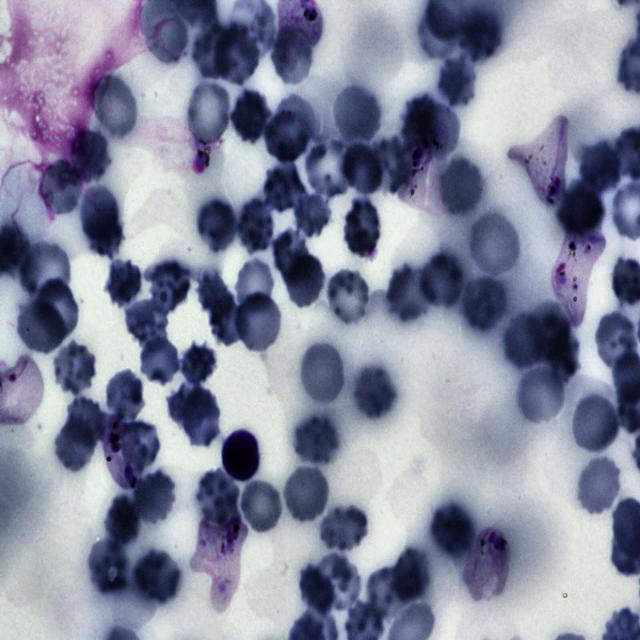leukocyte: (220, 428, 262, 483)
red blood cell: (198, 272, 246, 346), (466, 212, 520, 276), (184, 78, 233, 148), (19, 238, 72, 302), (298, 340, 347, 407), (570, 392, 620, 456), (213, 22, 261, 88), (332, 83, 382, 146), (574, 455, 624, 517), (234, 292, 284, 354), (323, 267, 372, 330), (513, 364, 564, 424), (282, 464, 331, 526), (437, 154, 484, 218), (134, 546, 182, 608), (16, 295, 66, 353), (270, 25, 316, 88), (281, 248, 326, 312), (304, 140, 354, 197), (96, 78, 139, 144), (350, 363, 398, 422), (594, 311, 640, 372), (87, 533, 132, 595), (38, 159, 85, 218), (340, 138, 386, 198), (527, 300, 570, 364), (556, 178, 604, 235), (386, 264, 434, 320), (132, 468, 178, 526), (54, 415, 97, 477), (342, 197, 384, 260), (292, 412, 340, 467), (238, 478, 284, 535), (318, 555, 363, 613), (178, 384, 220, 446), (390, 544, 432, 605), (146, 259, 192, 314), (37, 277, 79, 337), (194, 197, 238, 254), (51, 342, 98, 395), (462, 276, 508, 330), (320, 503, 368, 554), (420, 255, 468, 306), (196, 469, 240, 524), (456, 9, 500, 64), (230, 88, 272, 145), (504, 313, 546, 370), (103, 371, 147, 425), (236, 198, 276, 256), (138, 332, 180, 387), (264, 110, 306, 165), (232, 257, 273, 313), (417, 6, 458, 60), (579, 140, 620, 194), (123, 298, 169, 346), (430, 507, 474, 557), (193, 24, 233, 78), (72, 131, 111, 185), (81, 186, 119, 241), (272, 226, 307, 285), (366, 567, 404, 621), (263, 160, 300, 213), (120, 421, 160, 470), (166, 384, 210, 428), (434, 60, 476, 105), (298, 562, 334, 614), (105, 493, 140, 546), (66, 397, 102, 448), (103, 260, 141, 306), (85, 212, 123, 258), (180, 339, 218, 382), (296, 192, 330, 238)
ring: (1, 357, 44, 424)
trophozoite: (552, 222, 606, 328), (192, 514, 248, 612), (508, 114, 568, 204), (398, 122, 449, 218), (462, 527, 512, 603), (102, 412, 140, 493), (276, 0, 320, 46)
